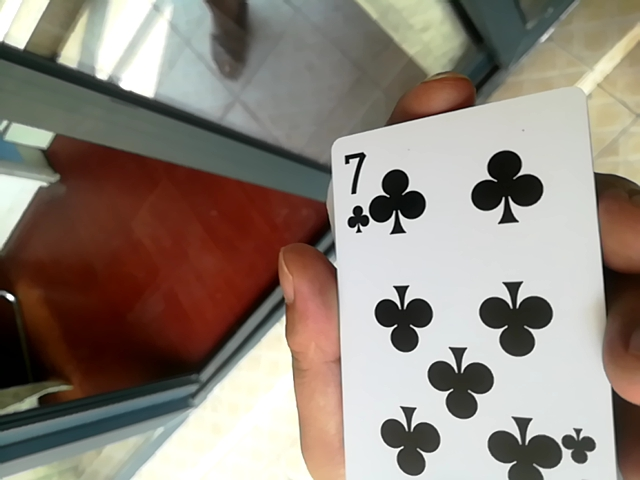mh 7: (312, 95, 629, 476)
